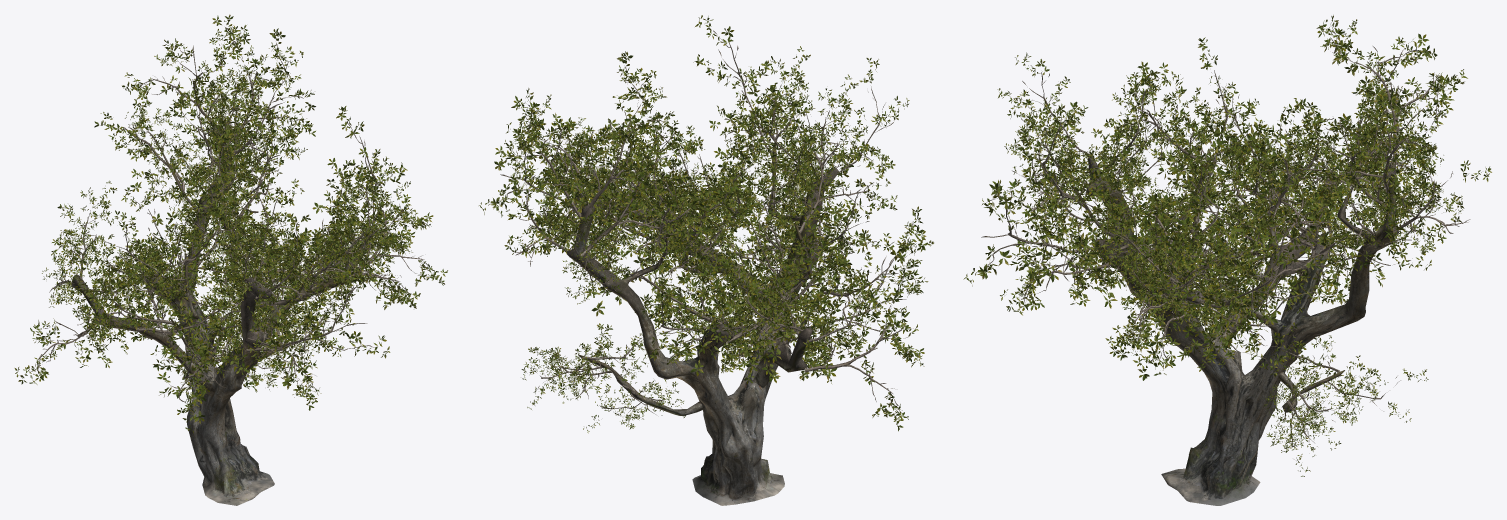
The model's file is island-tree.glb.
3 renders of one model, left to right at view 1: azimuth 30°, elevation 25°; view 2: azimuth 150°, elevation 25°; view 3: azimuth 270°, elevation 25°, orthographic. The views are drawn at different scales.
Parts seen in each view (by area): view 1: island_tree_01_LOD0; view 2: island_tree_01_LOD0; view 3: island_tree_01_LOD0.
Part boxes in pixels (x1=…): island_tree_01_LOD0: x1=14, y1=14, x2=447, y2=505; island_tree_01_LOD0: x1=479, y1=15, x2=933, y2=505; island_tree_01_LOD0: x1=963, y1=15, x2=1491, y2=505.
Size of the model in its own units: 4.75 by 5.02 by 4.82.
3 materials, 3 textured.
